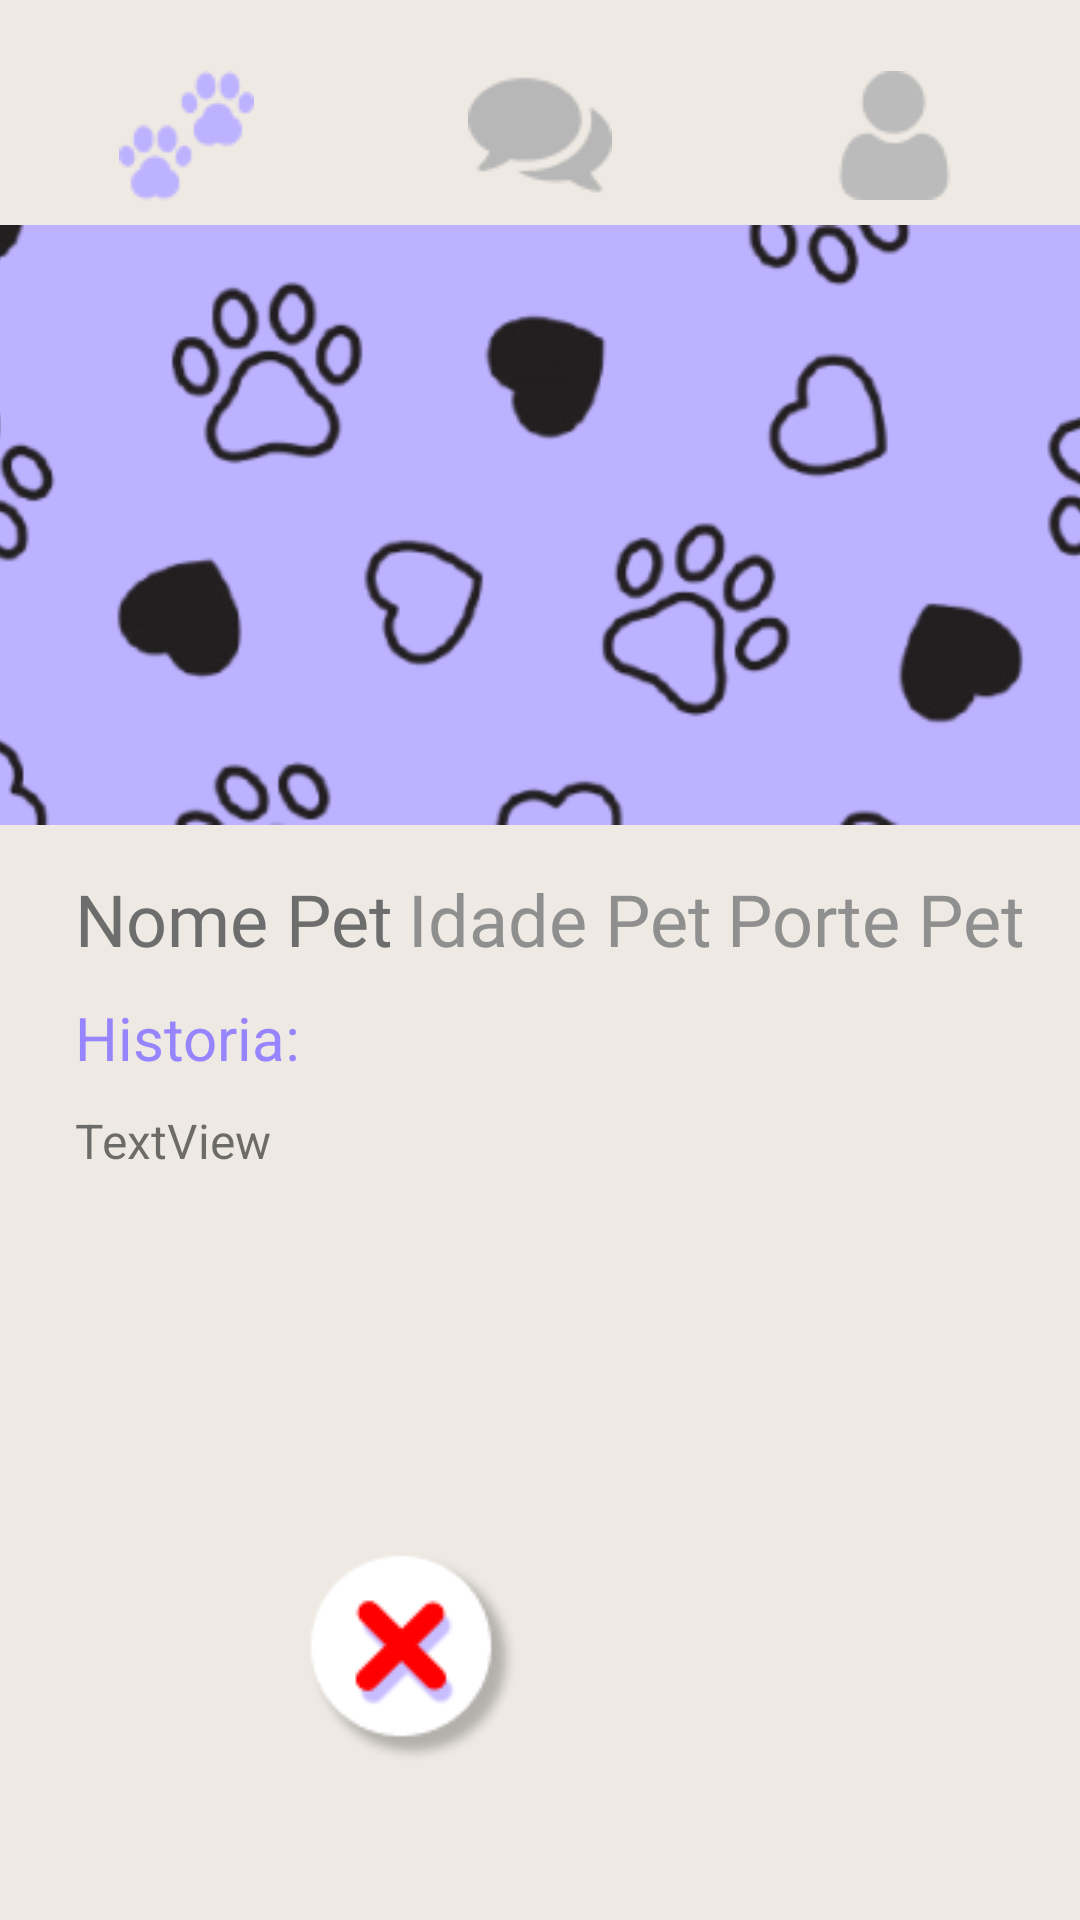

Icon bounding boxes for this 1080px x 1920px phone screenshot, format {"x1": x1, "y1": y1, "x2": x2, "y2": y2}:
iconebttnnegar: {"x1": 312, "y1": 1557, "x2": 507, "y2": 1752}
iconechatnormal: {"x1": 468, "y1": 78, "x2": 612, "y2": 192}
iconeperfilnormal: {"x1": 840, "y1": 71, "x2": 948, "y2": 200}
iconepetchativado: {"x1": 119, "y1": 73, "x2": 254, "y2": 198}
